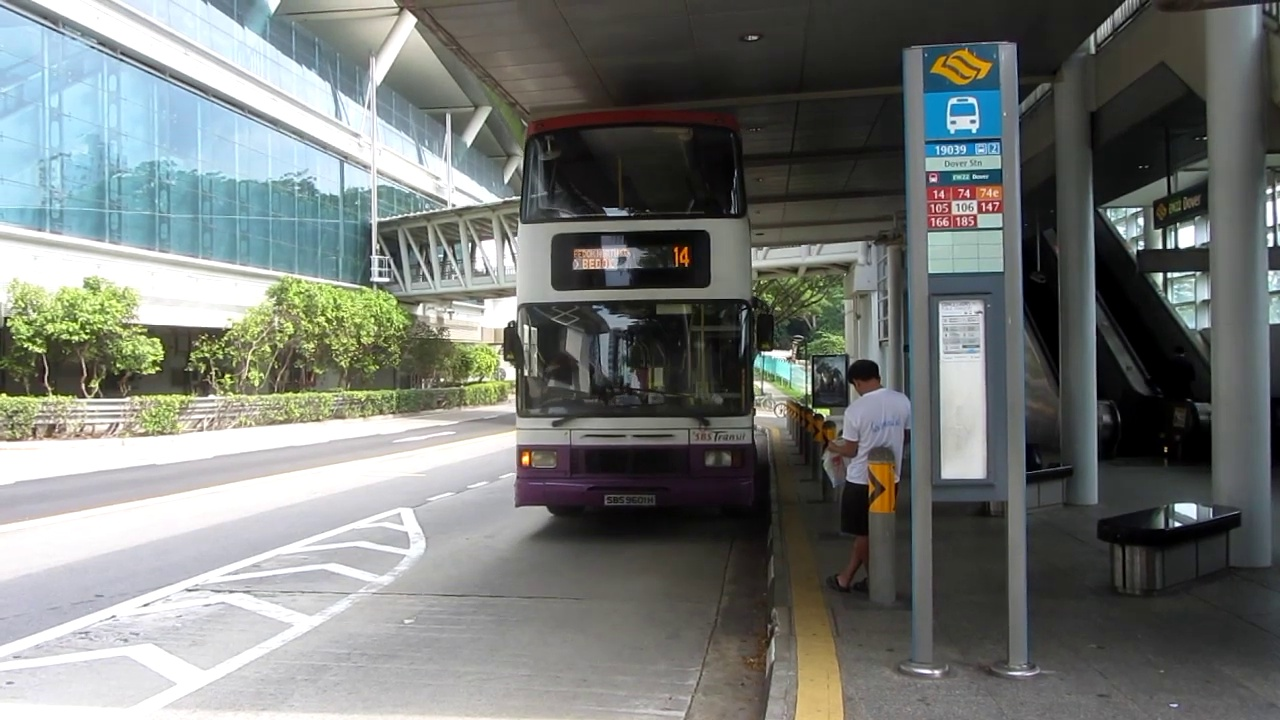bus panel: (570, 244, 694, 272)
